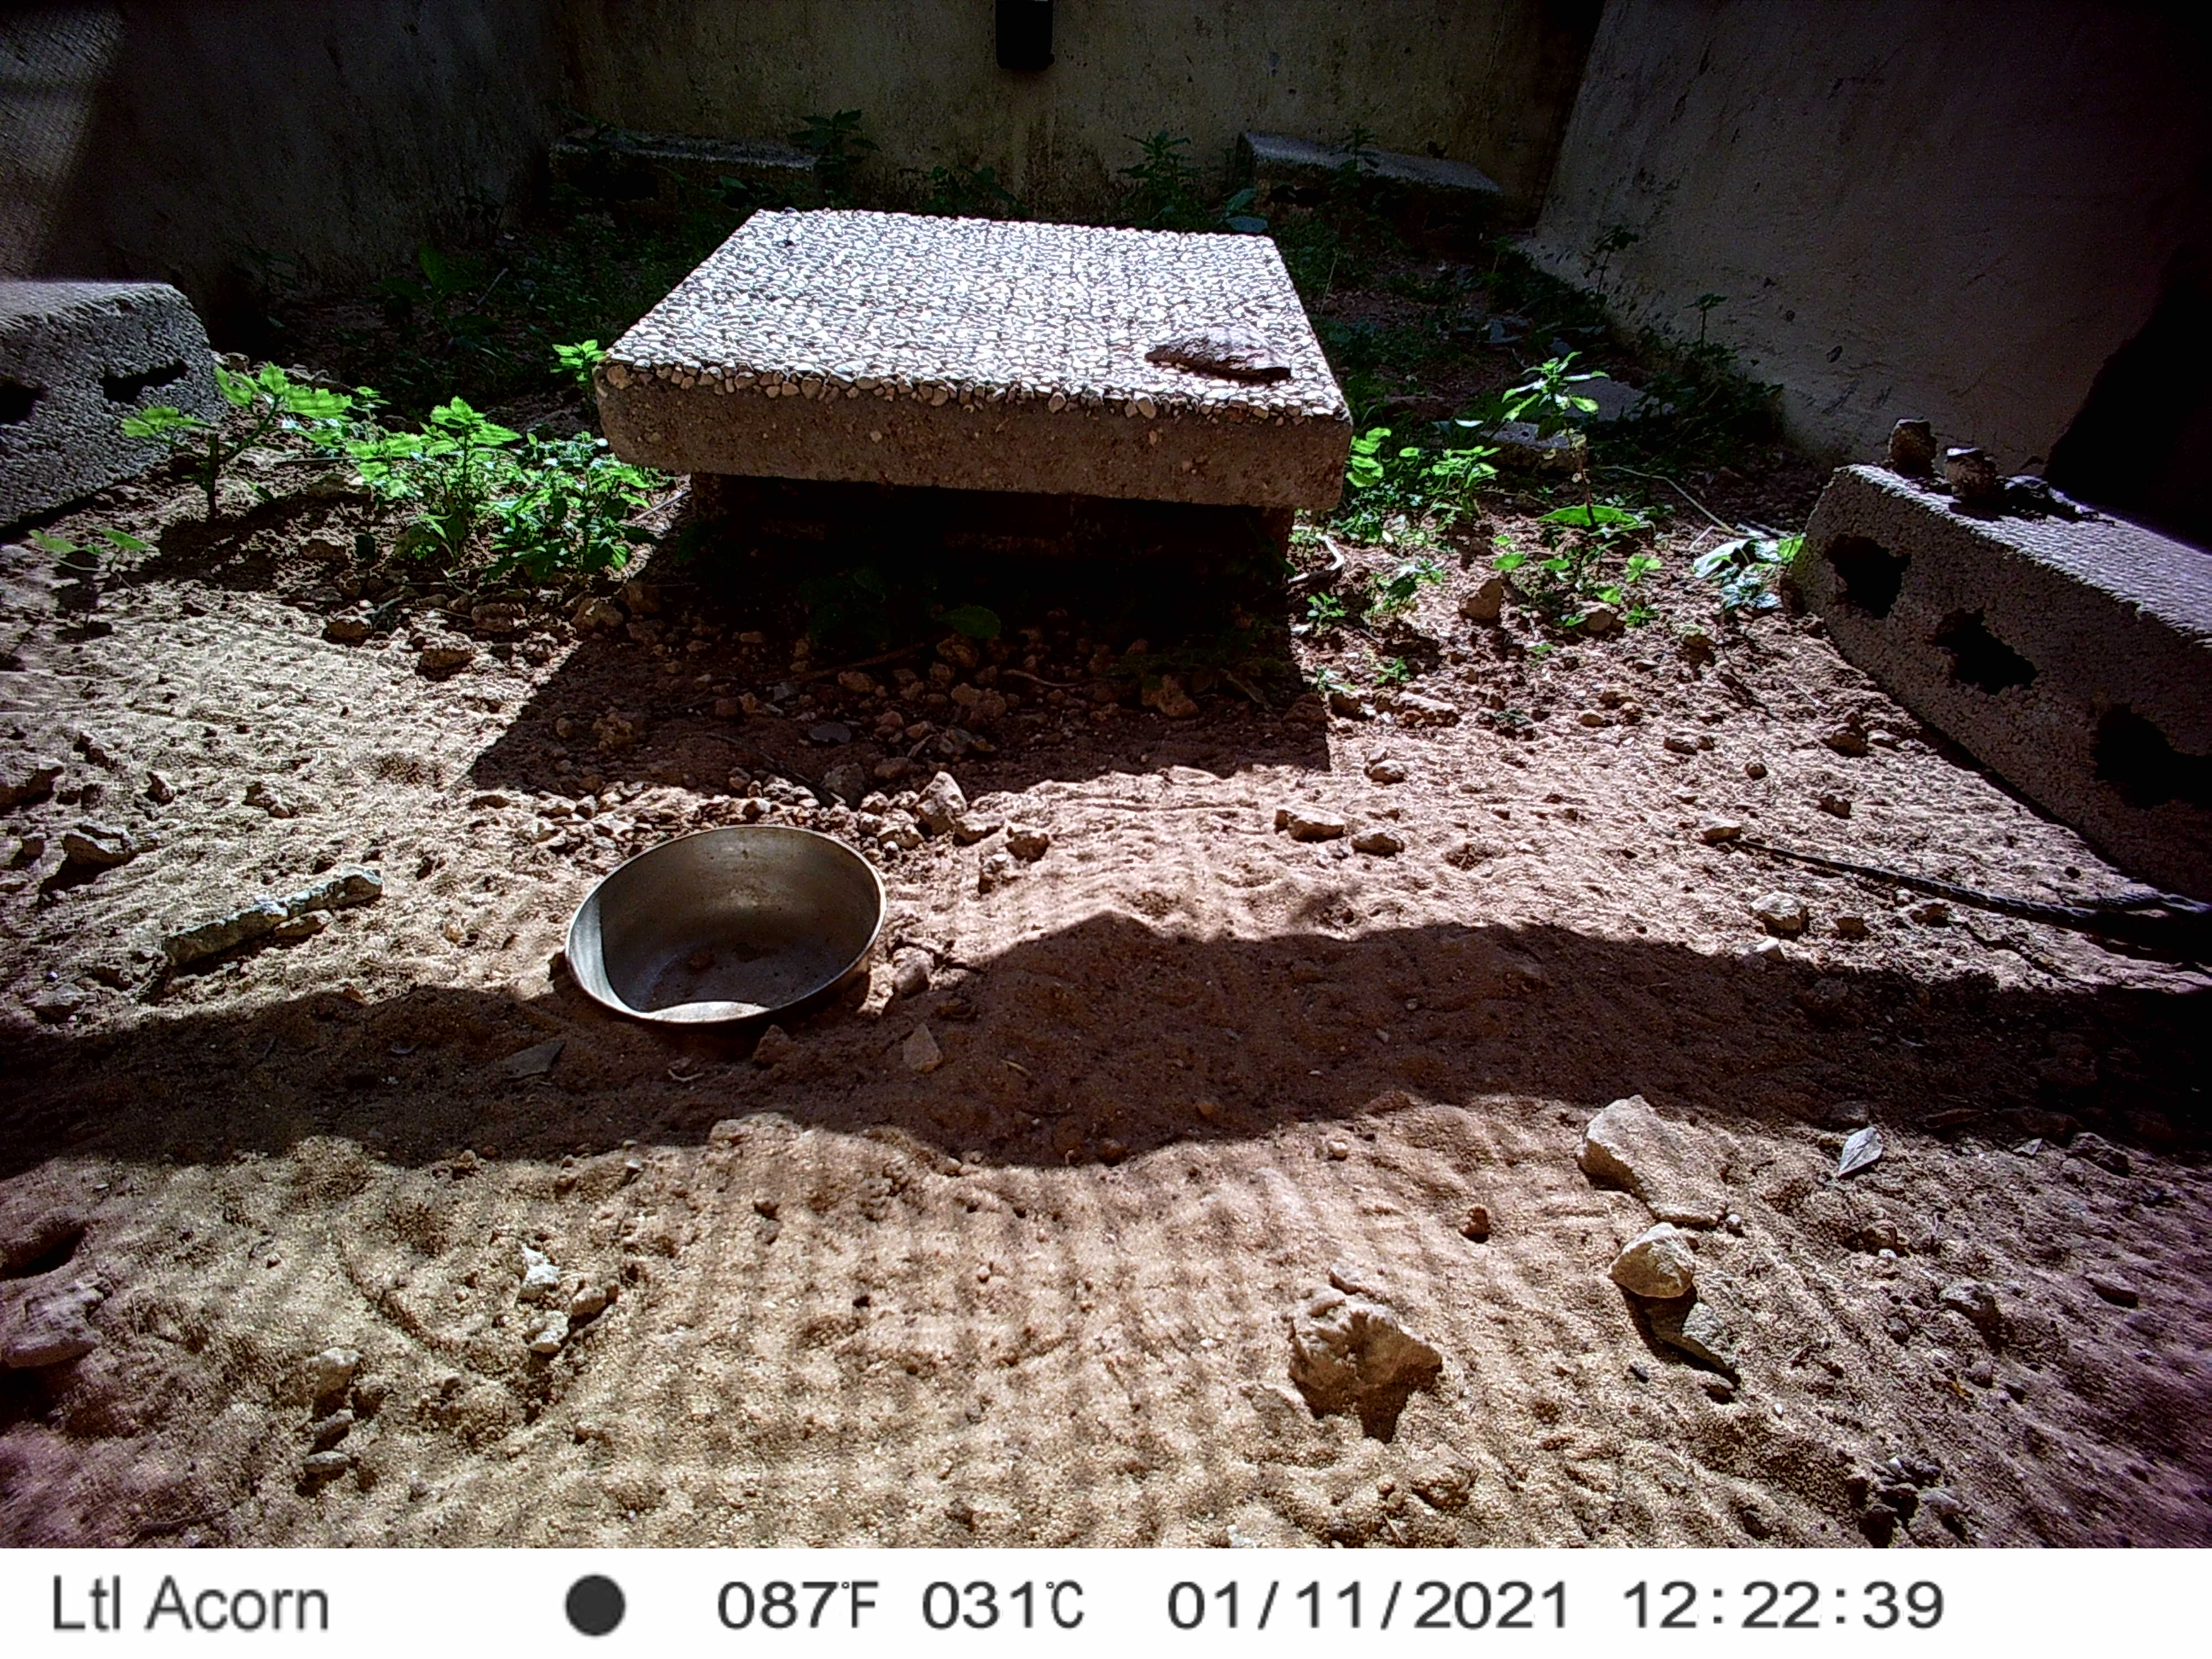lizard: (1942, 441, 2095, 526), (1878, 413, 1939, 486)
